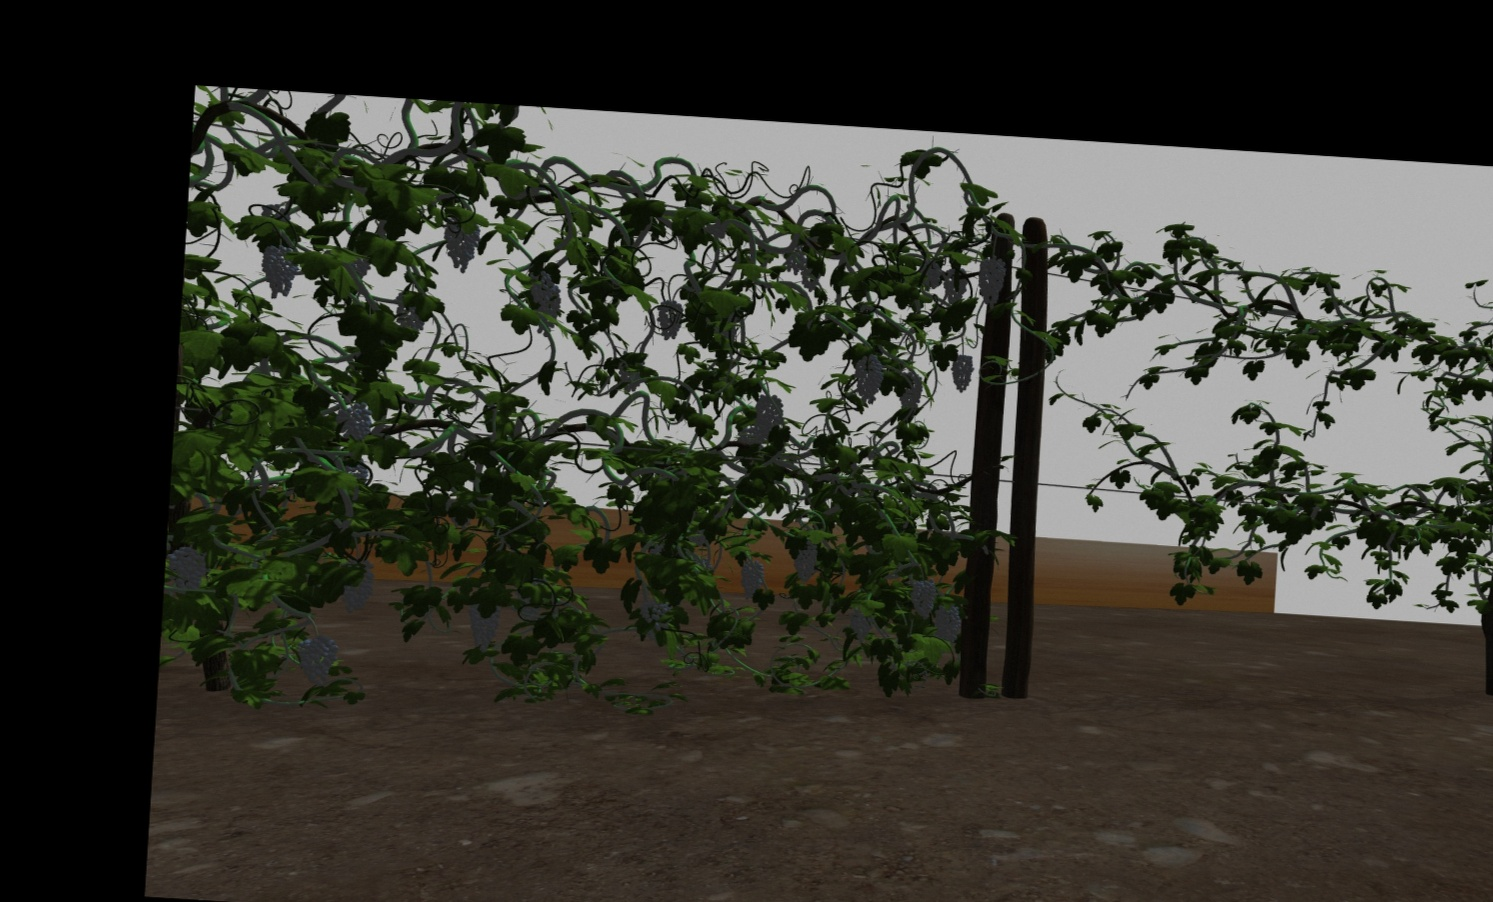grape: (296, 632, 338, 686), (442, 220, 479, 274), (259, 244, 296, 299), (341, 559, 375, 614), (168, 547, 206, 593), (977, 254, 1006, 312), (467, 603, 501, 653), (854, 354, 884, 403), (335, 401, 374, 437), (654, 299, 684, 340), (908, 579, 937, 621), (534, 294, 562, 337), (754, 394, 782, 436), (934, 606, 963, 645), (791, 539, 818, 581), (739, 559, 765, 601), (943, 267, 968, 306), (949, 353, 974, 393), (897, 374, 924, 410), (848, 606, 874, 641), (529, 274, 553, 303), (637, 599, 667, 623), (918, 259, 941, 289), (785, 244, 804, 274)
